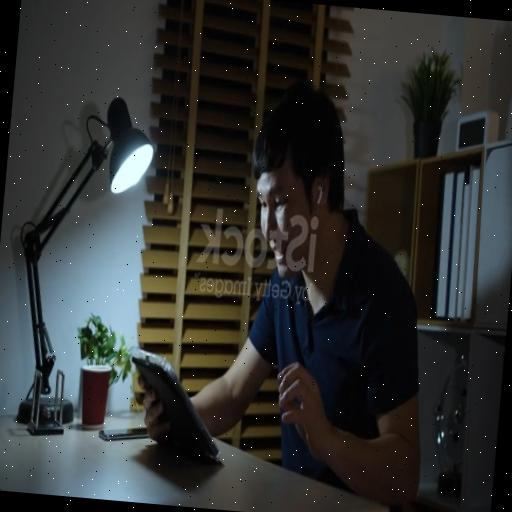earphone: (314, 181, 326, 210)
